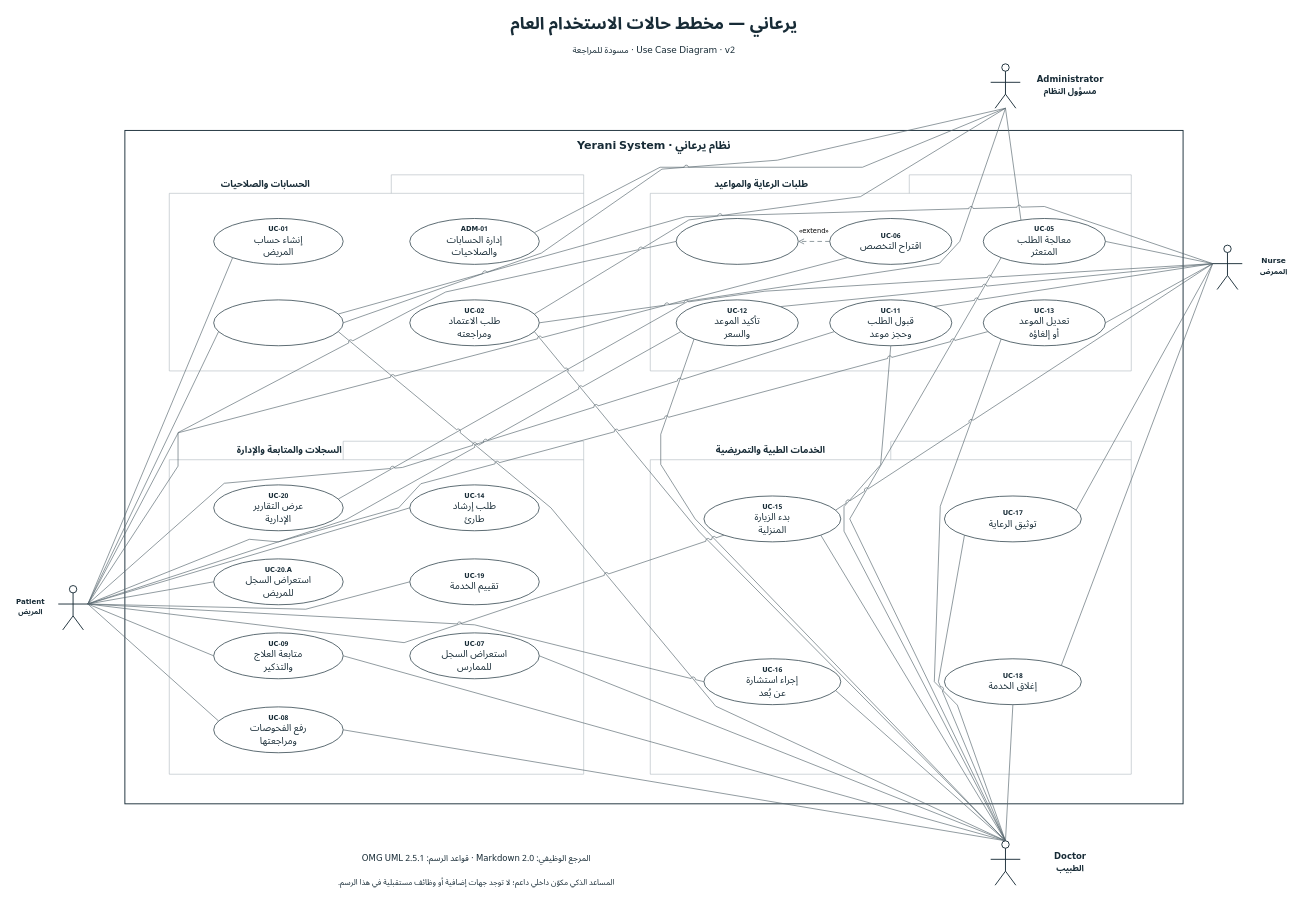
Some shapes in this 1308 by 901 pixel diagram are drawn without their labels. Here are the shapes that lost their labels. From the top down, the box of each, then its label:
(676, 218, 798, 265): UC-04 طلب الرعاية
(213, 299, 343, 346): UC-03 تسجيل الدخول
